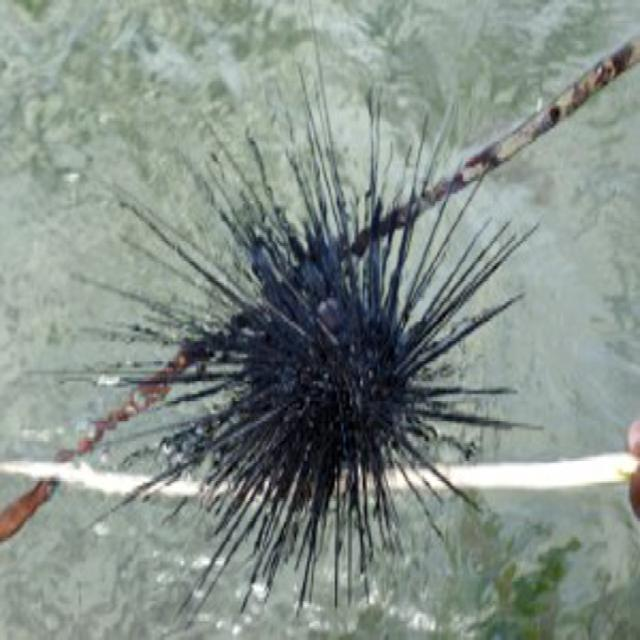Urchin: (110, 34, 525, 614)
